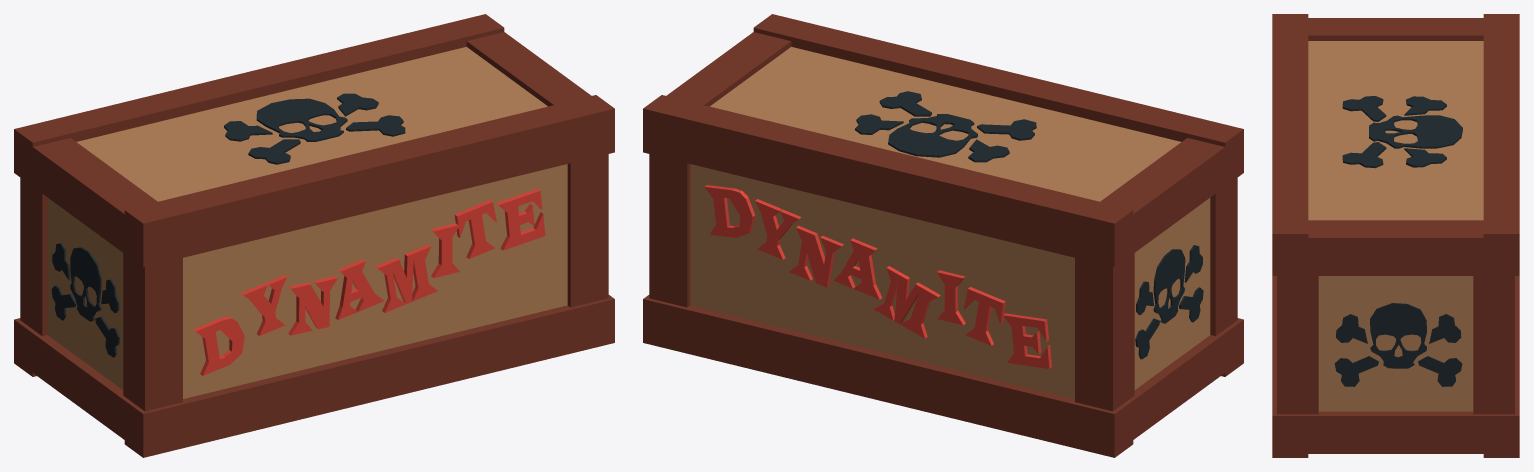
File: Dynamite_box.fbx
3 renders of one model, left to right at view 1: azimuth 30°, elevation 25°; view 2: azimuth 150°, elevation 25°; view 3: azimuth 270°, elevation 25°, orthographic. The views are drawn at different scales.
Visible parts, largest first — view 1: Dynamite_box; view 2: Dynamite_box; view 3: Dynamite_box.
Part boxes in pixels (x1,y1,x2,y2): Dynamite_box: (14,14,614,457); Dynamite_box: (643,14,1243,457); Dynamite_box: (1272,14,1519,457).
Size of the model in its own units: 164 by 78.04 by 78.04.
